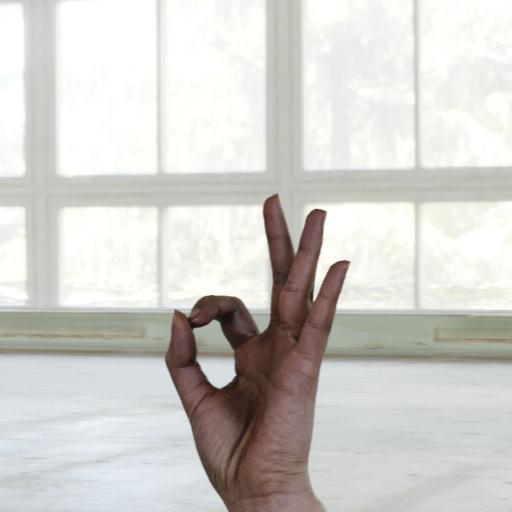F: (162, 183, 358, 491)
